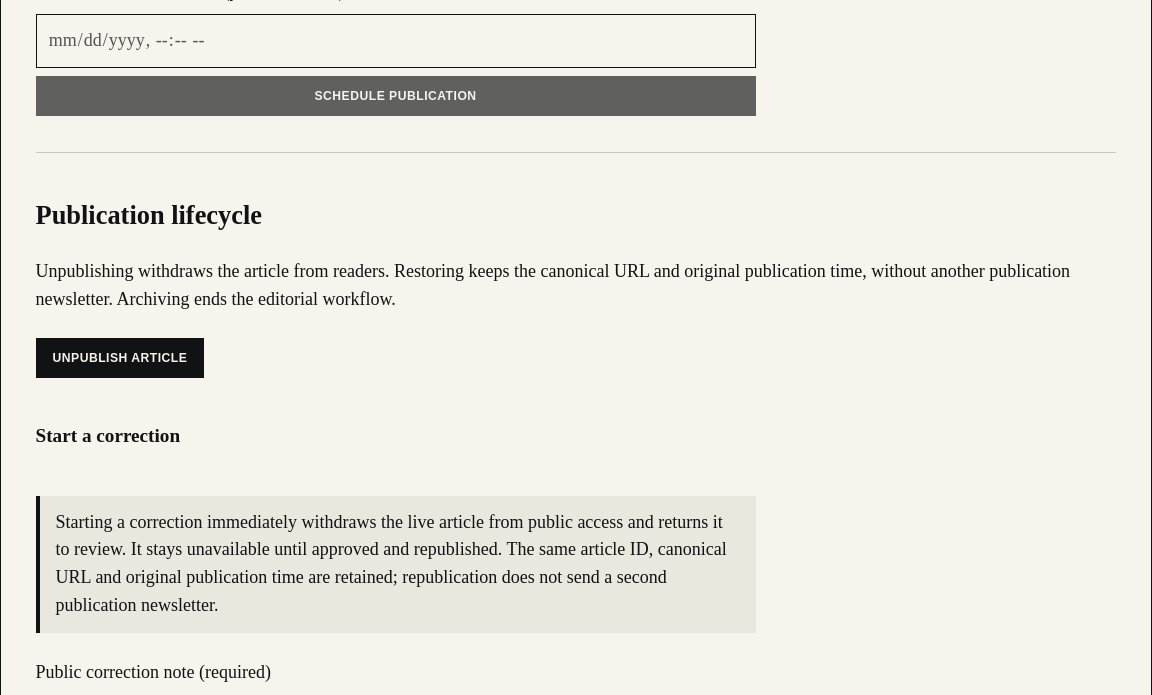
it: Article workspace › offers the correct PUBLISHED lifecycle action: Unpublish article
(page scrolled)
Click the button "Unpublish article". click: {"x": 120, "y": 358}
box: [36,338,204,378]
(page scrolled)
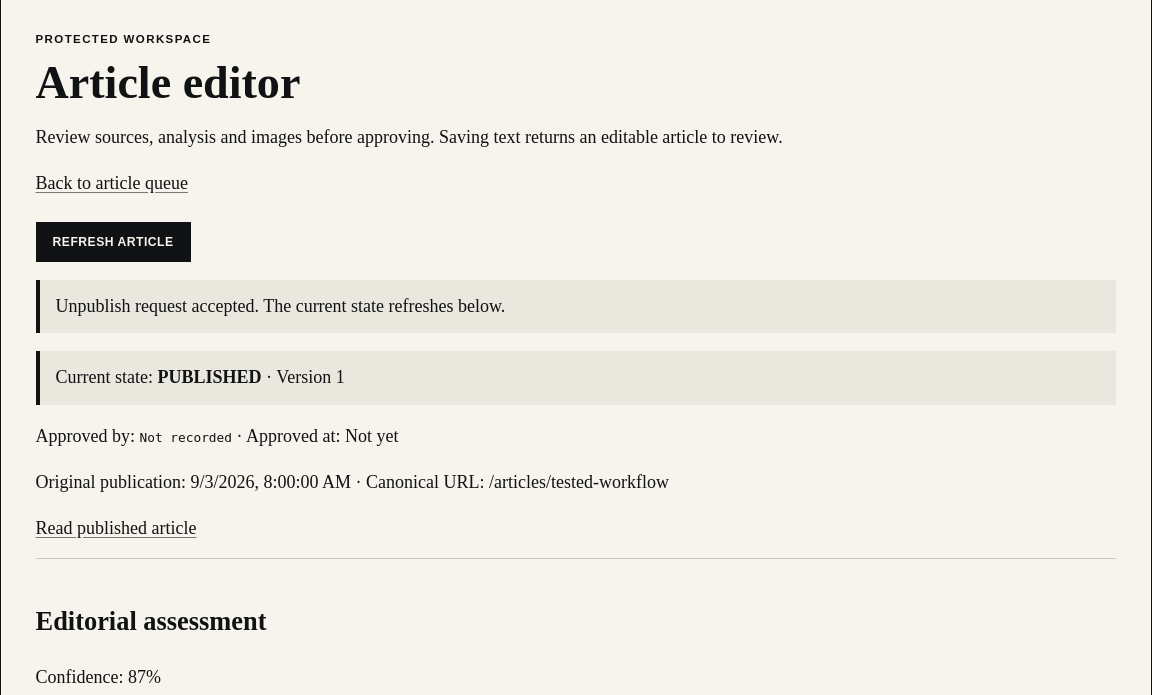
Expected: the text "Unpublish request accepted. The current state refreshes below." is shown, [36,280,1116,333]
